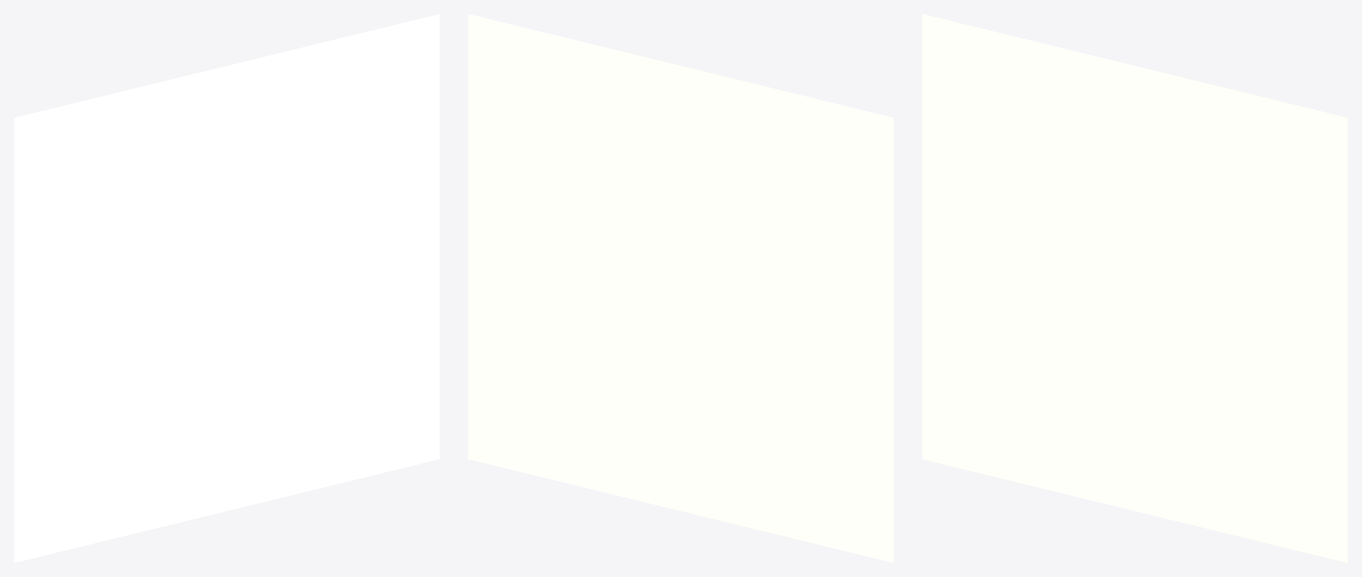
File: Painterly2.optimized.glb
3 renders of one model, left to right at view 1: azimuth 30°, elevation 25°; view 2: azimuth 150°, elevation 25°; view 3: azimuth 330°, elevation 25°, orthographic.
Visible parts, largest first — view 1: Plane; view 2: Plane; view 3: Plane.
Boxes of the visible parts, box(x1,y1,x2,y2) form: Plane: box(14, 14, 439, 562); Plane: box(468, 14, 893, 562); Plane: box(922, 14, 1347, 562).
Bounding box in the file's own units: 153016 × 153016 × 1709.
